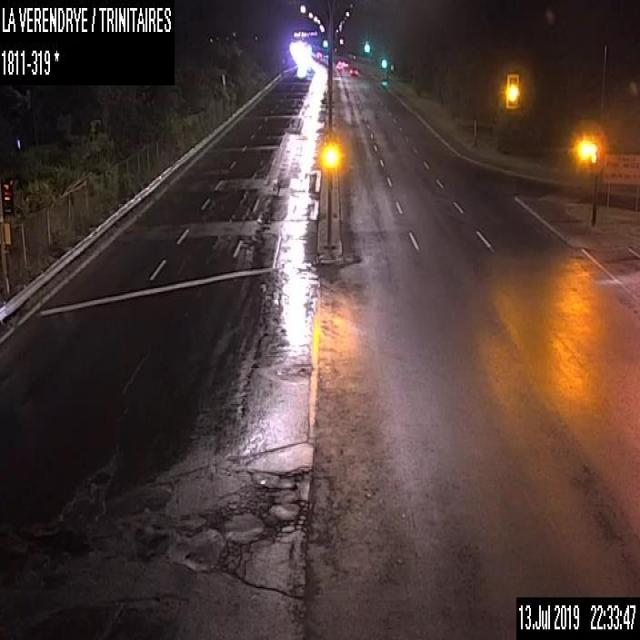vehicle: (349, 66, 357, 75), (336, 62, 342, 69)
